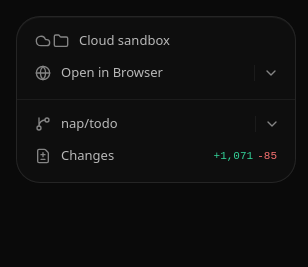
Test: the version control section › compares the branch with its base from the branch menu
Click the button with aria-label "Branch nap/todo". click: (89, 123)
box: [25,108,287,140]
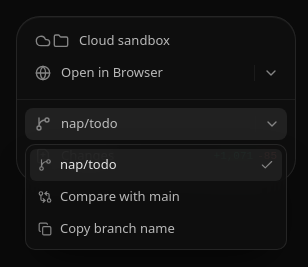
Click the menu item "Compare with main". click: (156, 197)
box: [30,181,282,213]
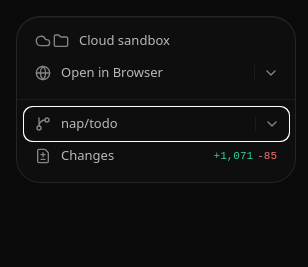
Now the menu is gone
